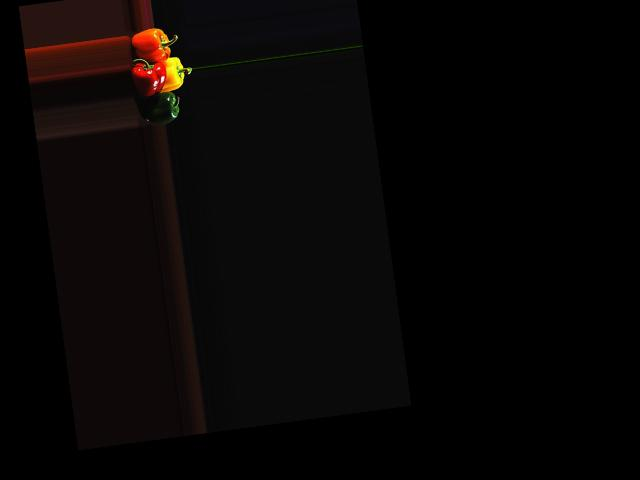bell_pepper: (124, 25, 176, 66)
